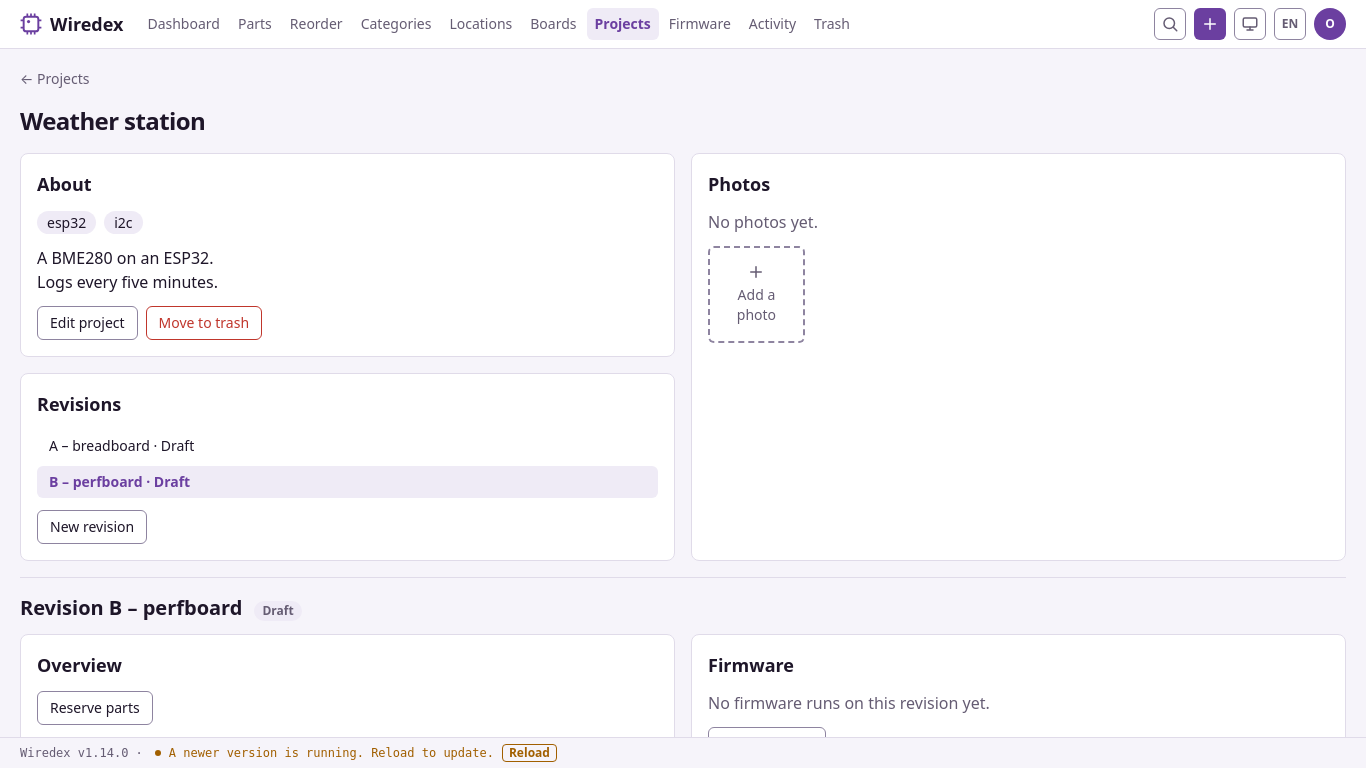
Test: ProjectPage › shows the API's sentence when a revision keeps the project
The width and height of the screenshot is (1366, 768).
Click the button "Move to trash".
click(204, 323)  # box [146,306,262,340]
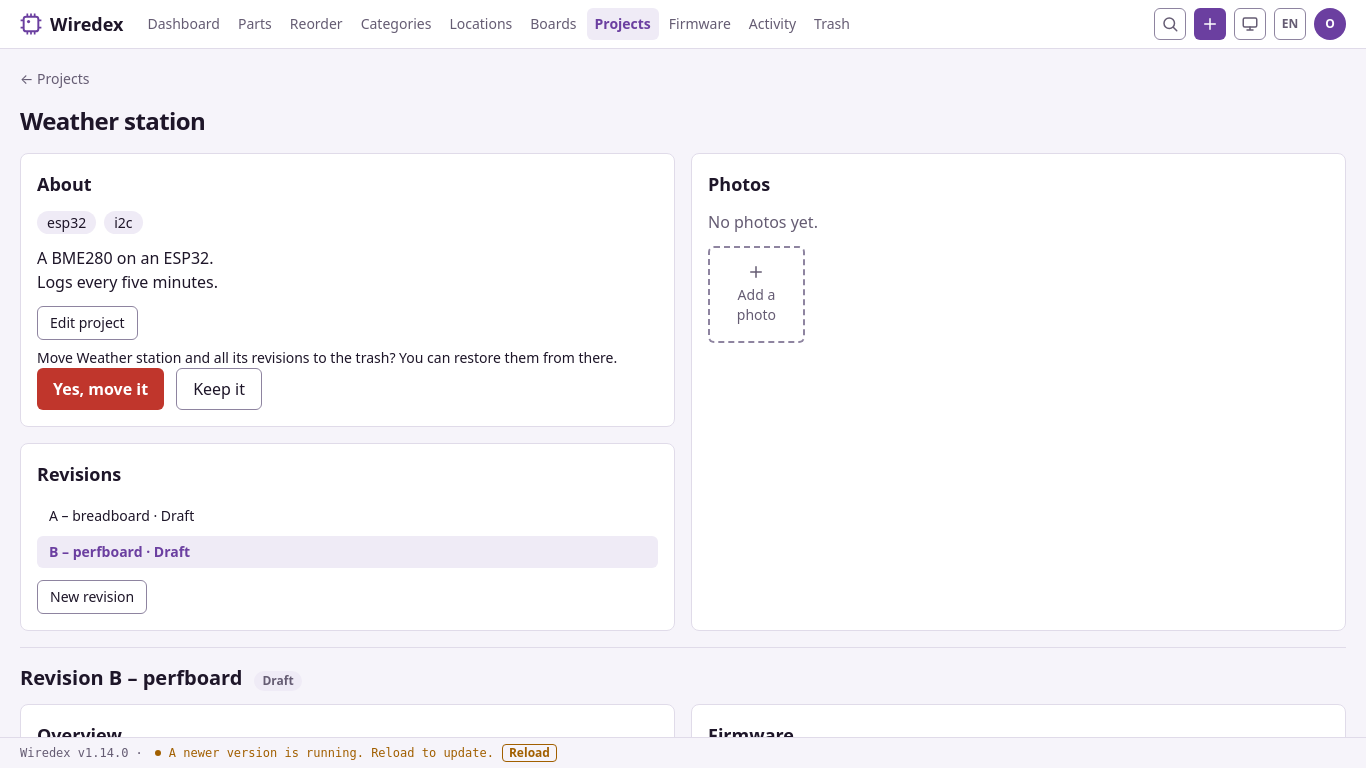
Click the button "Yes, move it".
click(101, 389)  # box [37,368,164,410]
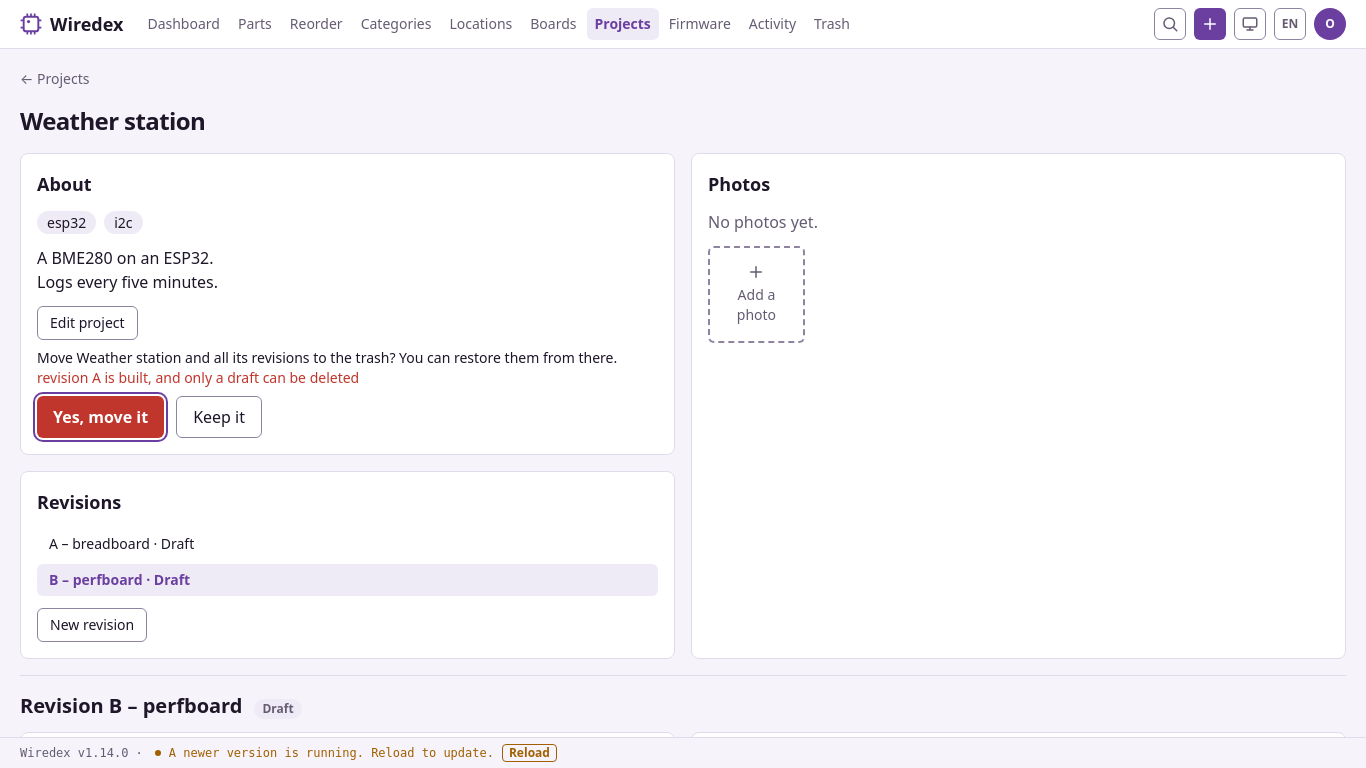
Expected: the heading "Weather station" is shown, [20,104,205,137]
Now the message "revision A is built, and only a draft can be deleted" is shown, box [37,368,359,387]
